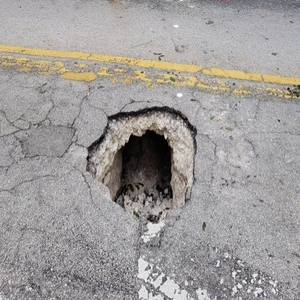pothole: (84, 102, 200, 245)
